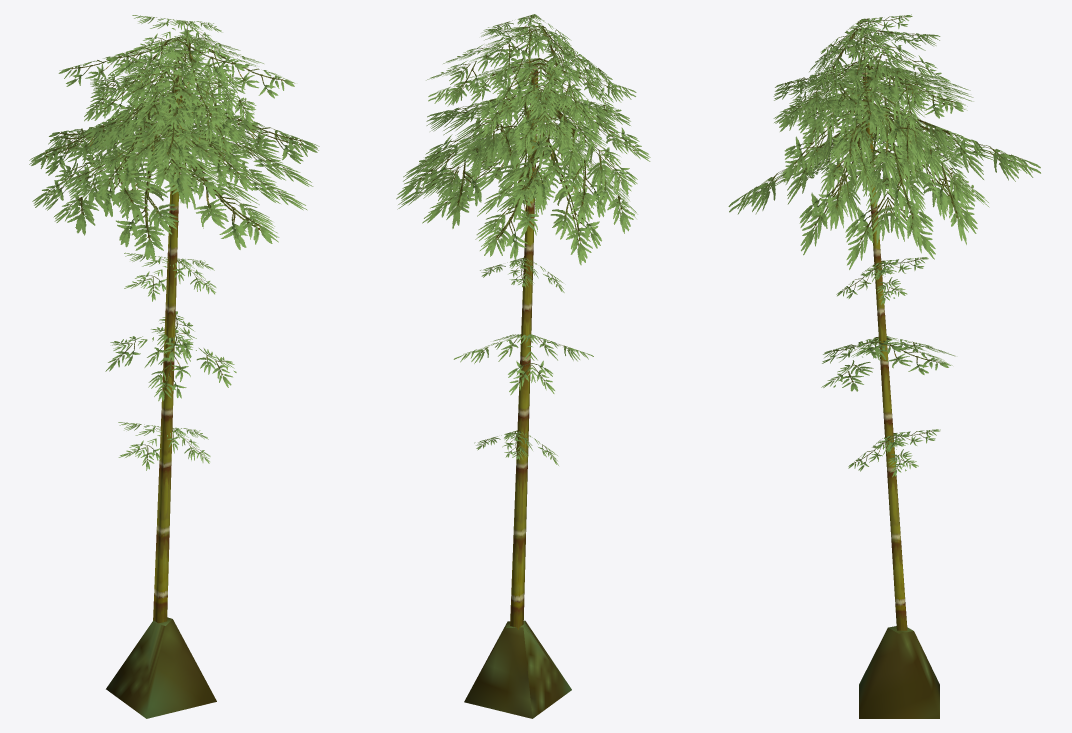
Rendered from flora_tree_bamboo_single_v2.glb.
The picture shows the model from 3 angles, left to right: view 1: azimuth 30°, elevation 25°; view 2: azimuth 150°, elevation 25°; view 3: azimuth 270°, elevation 25°; orthographic projection. The views are drawn at different scales.
Visible parts, largest first — view 1: flora_tree_bamboo_single_v2_part0; view 2: flora_tree_bamboo_single_v2_part0; view 3: flora_tree_bamboo_single_v2_part0.
Part boxes in pixels (left/top/right/bottom): flora_tree_bamboo_single_v2_part0: left=29, top=15, right=319, bottom=718; flora_tree_bamboo_single_v2_part0: left=396, top=14, right=650, bottom=718; flora_tree_bamboo_single_v2_part0: left=728, top=14, right=1040, bottom=718.
Bounding box in the file's own units: 8.43 × 17.37 × 7.93.
Materials: 1 (1 with a texture image).
